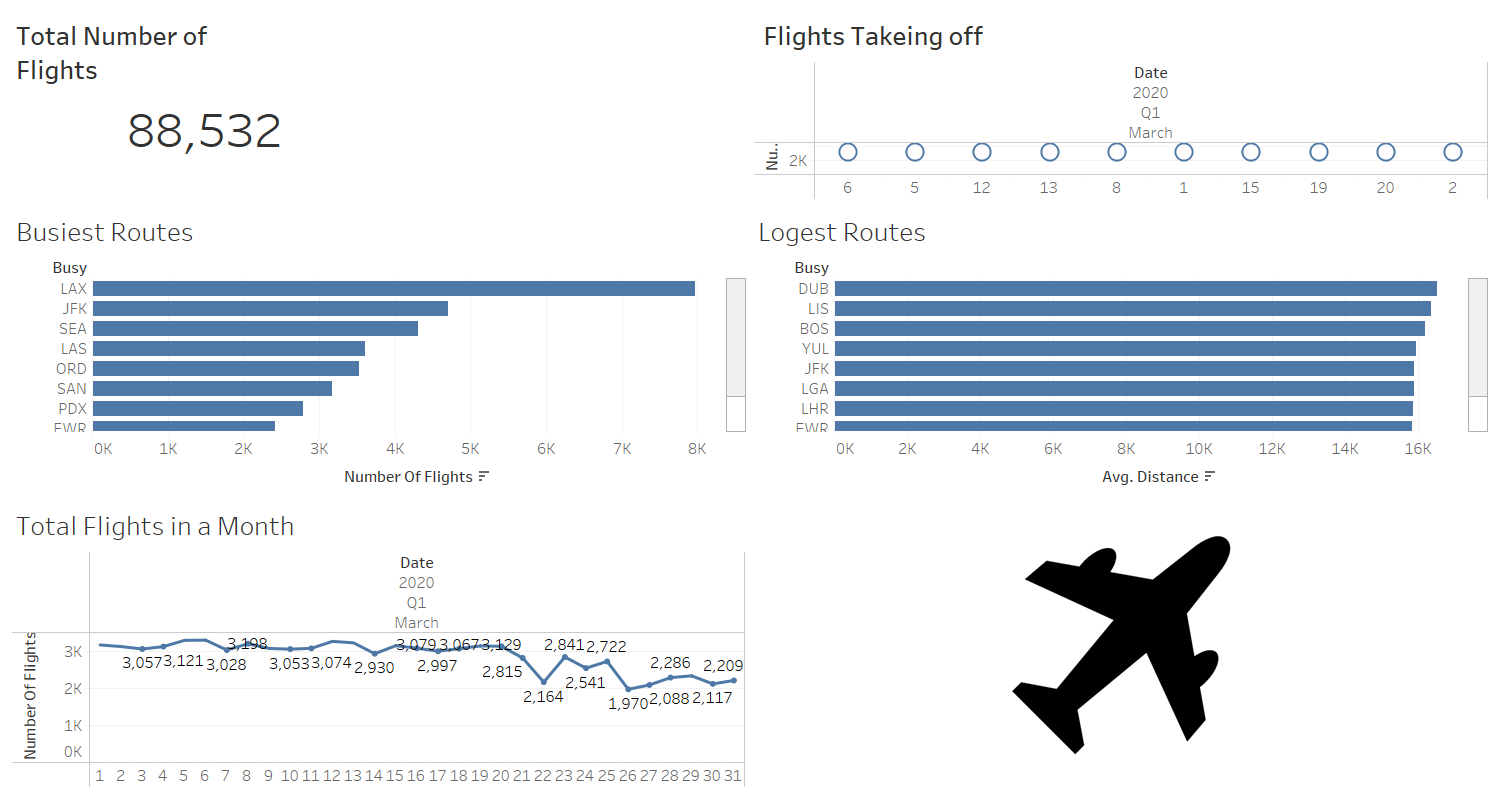

What the dashboard file says about the page in this screenshot:
{"tool":"tableau","page":{"name":"Airline Data","canvas":[1500,800],"ordinal":0},"visuals":[{"type":"worksheet","title":"Total Number of Flights","mark":"Automatic","box":[8,8,742,196]},{"type":"worksheet","title":"Flights Takeing off","mark":"Shape","rows":["Calculation_352969663500107776"],"cols":["Date","Date","Date","Date"],"box":[750,8,742,196]},{"type":"worksheet","title":"Busiest Routes","mark":"Automatic","rows":["Calculation_352969663507218433"],"cols":["Calculation_352969663500107776"],"box":[8,204,742,294]},{"type":"worksheet","title":"Logest Routes","mark":"Automatic","rows":["Calculation_352969663507218433"],"cols":["Calculation_352969663509147652"],"box":[750,204,742,294]},{"type":"worksheet","title":"Total Flights in a Month","mark":"Automatic","rows":["Calculation_352969663500107776"],"cols":["Date","Date","Date","Date"],"box":[8,498,742,294]},{"type":"image","param":"C:/Users/kanam/OneDrive/Desktop/dataset for project covid 19/airline.png","box":[750,498,742,294]}]}

Visuals, with their boxes in screenshot pixels (x1, y1, x2, y2), scaled from the page's 1500x800 canvas onto the 1500x800 screenshot:
"Total Number of Flights" worksheet: (8,8,750,204)
"Flights Takeing off" worksheet (Shape marks): (750,8,1492,204)
"Busiest Routes" worksheet: (8,204,750,498)
"Logest Routes" worksheet: (750,204,1492,498)
"Total Flights in a Month" worksheet: (8,498,750,792)
image: (750,498,1492,792)
